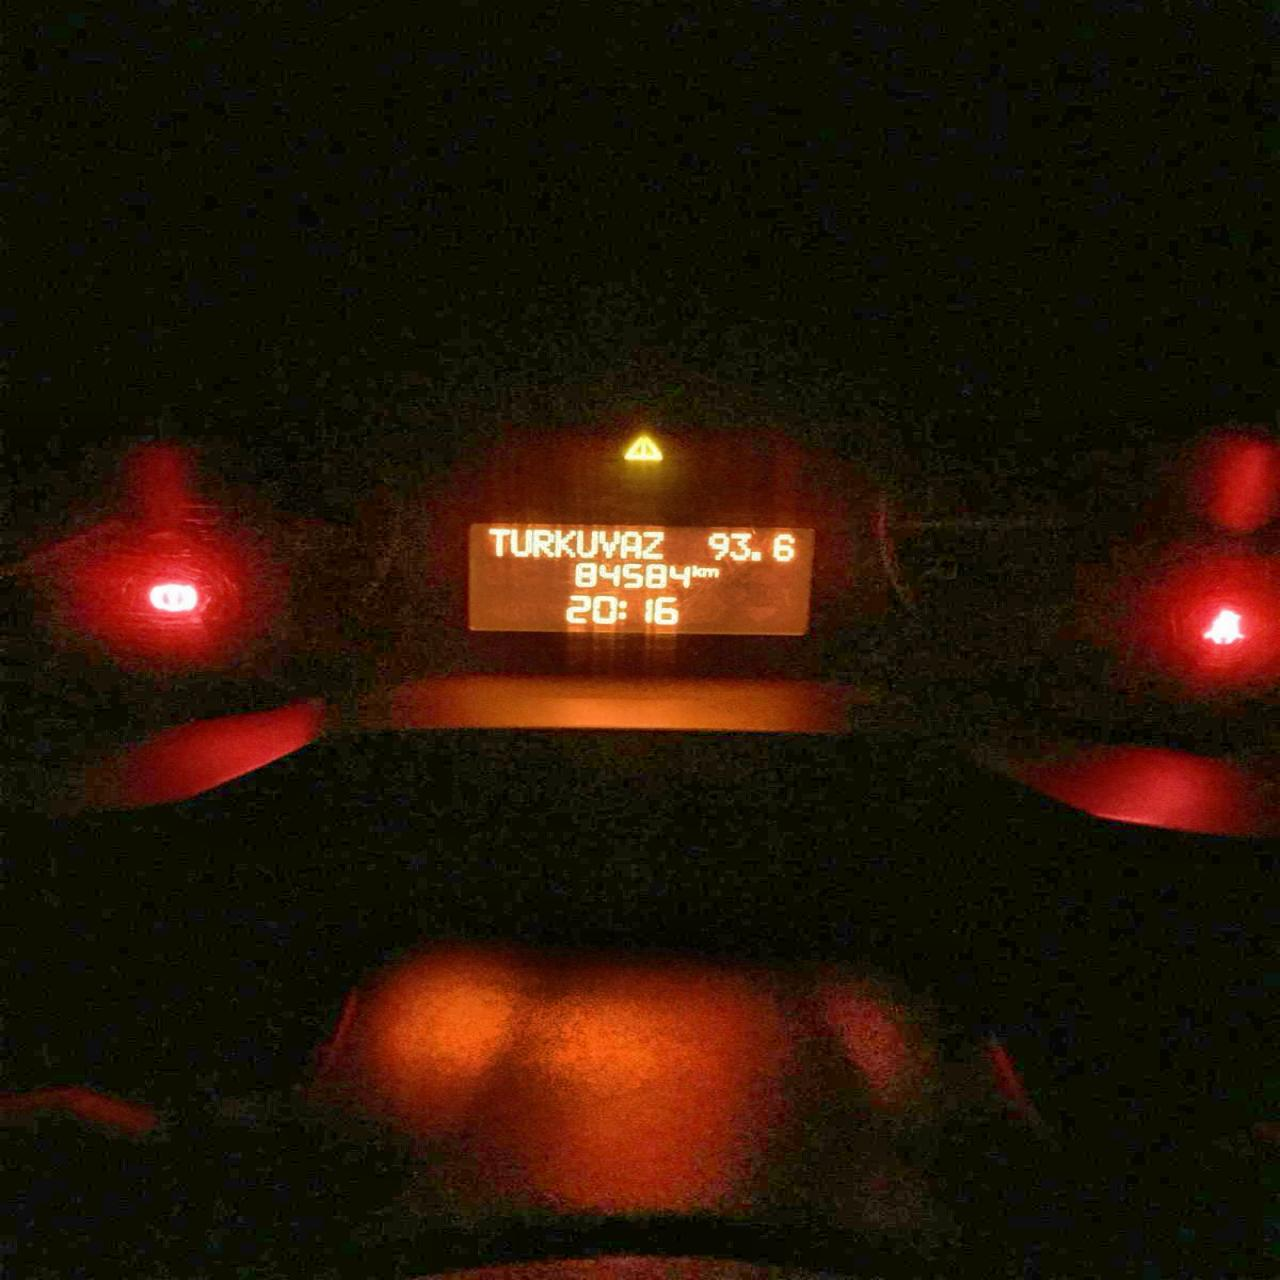-: (751, 549, 764, 561)
0: (588, 594, 615, 625)
1: (642, 595, 653, 622)
2: (565, 593, 591, 624)
3: (729, 530, 754, 560)
4: (598, 561, 621, 586), (669, 563, 690, 588)
5: (621, 563, 644, 587)
6: (772, 531, 796, 561), (655, 595, 679, 622)
8: (572, 561, 598, 588), (645, 561, 667, 588)
9: (707, 529, 730, 563)
X: (641, 527, 667, 558), (484, 525, 506, 560), (531, 526, 553, 560), (509, 526, 531, 559), (576, 526, 598, 558), (598, 527, 619, 559), (621, 530, 641, 560), (554, 529, 574, 558), (615, 597, 629, 621), (701, 566, 719, 579), (692, 564, 701, 577)
odometer: (462, 516, 816, 638)
